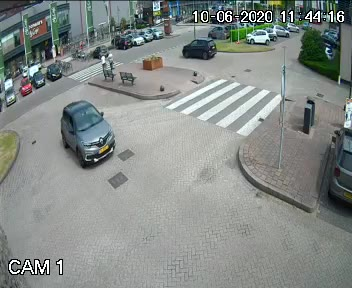car: (51, 99, 123, 171), (178, 30, 221, 66)
